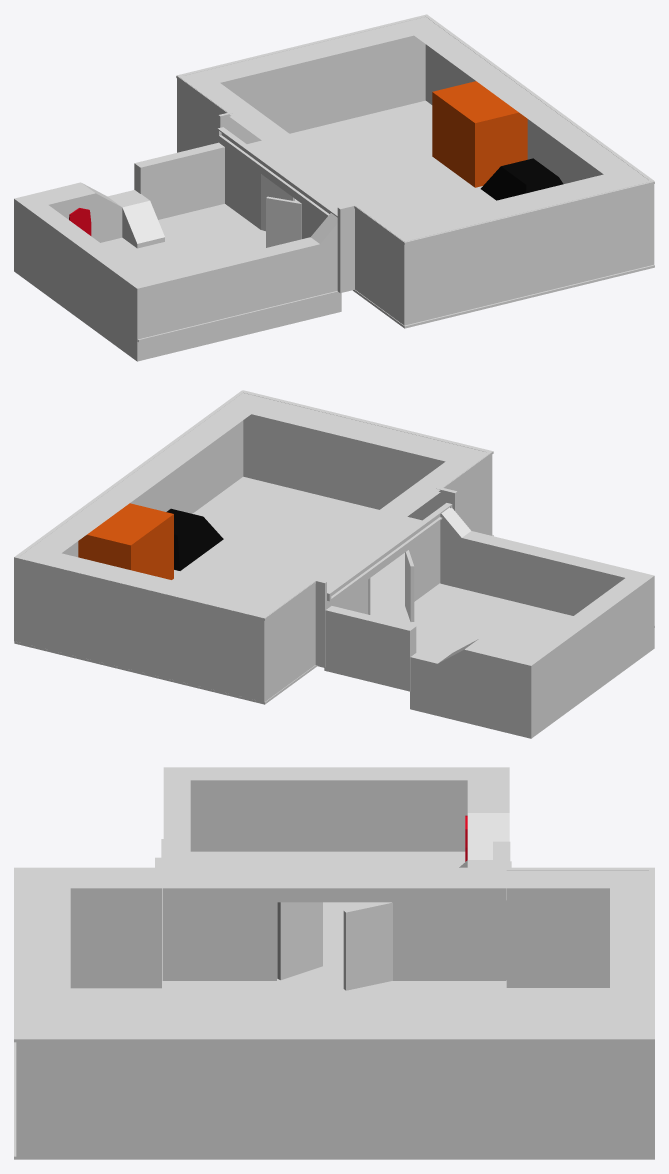
Rendered from IEP_room_rough_sketch.fbx.
The picture shows the model from 3 angles, top to bottom: view 1: azimuth 30°, elevation 25°; view 2: azimuth 150°, elevation 25°; view 3: azimuth 270°, elevation 25°; orthographic projection. The views are drawn at different scales.
Visible parts, largest first — view 1: Walls, Stairs leading to upper floor, Floor 1, Upper floor, Furnace, Cube, Doorway 1, Coal pile, Door right, Door left; view 2: Walls, Stairs leading to upper floor, Floor 1, Upper floor, Cube, Furnace, Doorway 1, Coal pile, Door right; view 3: Walls, Upper floor, Stairs leading to upper floor, Floor 1, Doorway 1, Door left, Door right.
Boxes of the visible parts, left/top/right/bottom form: Walls: left=177, top=14, right=654, bottom=325; Stairs leading to upper floor: left=14, top=182, right=341, bottom=361; Floor 1: left=101, top=100, right=654, bottom=342; Upper floor: left=176, top=17, right=654, bottom=244; Furnace: left=432, top=81, right=527, bottom=187; Cube: left=134, top=142, right=224, bottom=219; Doorway 1: left=217, top=127, right=337, bottom=238; Coal pile: left=480, top=158, right=563, bottom=200; Door right: left=266, top=196, right=301, bottom=247; Door left: left=261, top=174, right=294, bottom=231; Walls: left=14, top=390, right=492, bottom=702; Stairs leading to upper floor: left=410, top=507, right=654, bottom=738; Floor 1: left=14, top=476, right=654, bottom=704; Upper floor: left=14, top=390, right=493, bottom=620; Cube: left=324, top=606, right=416, bottom=691; Furnace: left=78, top=503, right=173, bottom=579; Doorway 1: left=327, top=503, right=452, bottom=614; Coal pile: left=166, top=508, right=223, bottom=570; Door right: left=405, top=550, right=414, bottom=621; Walls: left=16, top=857, right=654, bottom=1156; Upper floor: left=14, top=867, right=654, bottom=1042; Stairs leading to upper floor: left=163, top=767, right=509, bottom=867; Floor 1: left=14, top=839, right=654, bottom=1159; Doorway 1: left=162, top=888, right=506, bottom=980; Door left: left=343, top=902, right=392, bottom=990; Door right: left=277, top=902, right=322, bottom=980.
Bounding box in the file's own units: 8701 × 1893 × 7405.
